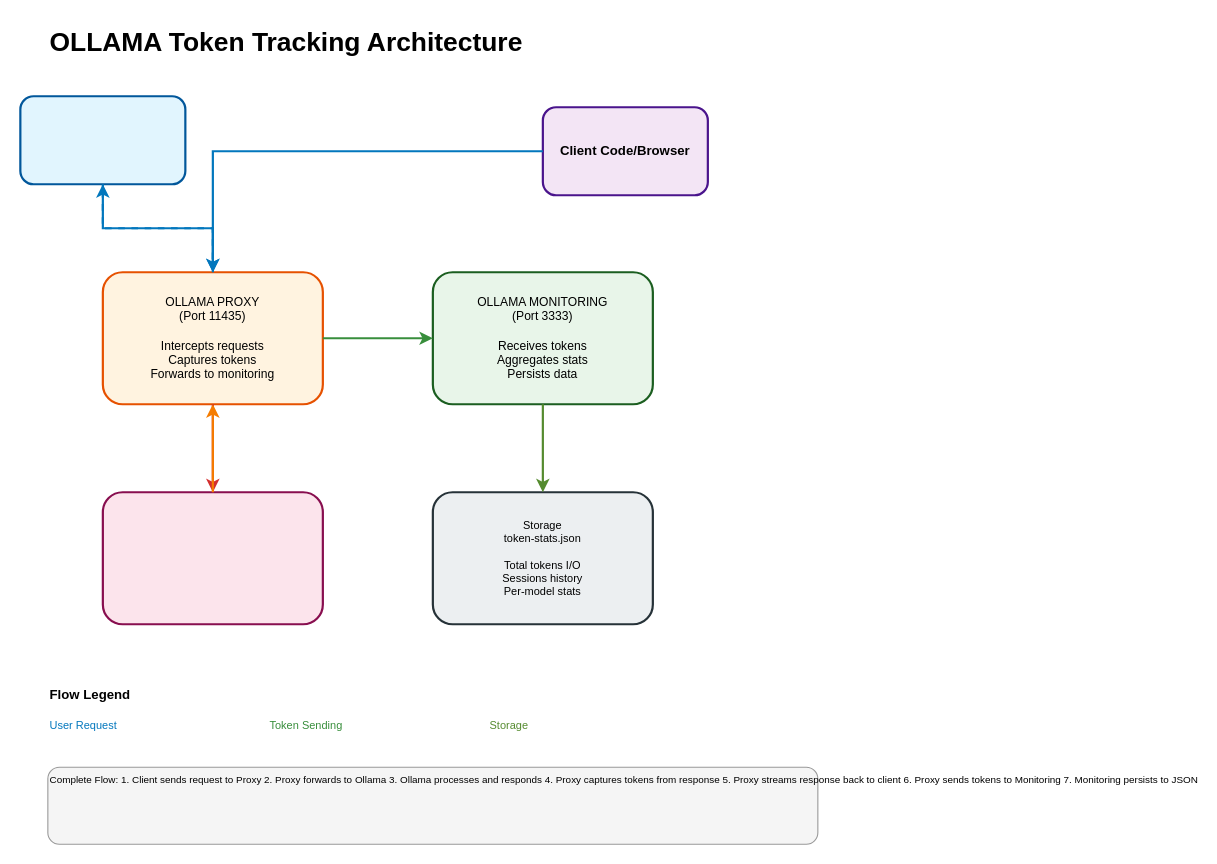
Image size: 1217x864. Some labels were removed from this diagram. The centre of each missing label's shape, as x and y in pixels:
"OLLAMA Server (Port 11434) LLM Inference Generates responses Returns tokens info" goes at [212,558].
"Open WebUI (Port 8080)" goes at [102,140].
